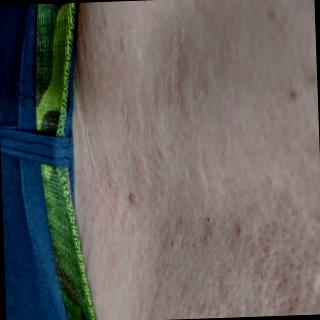urticaria: (274, 261, 302, 309), (156, 219, 188, 258), (264, 217, 300, 251), (193, 205, 216, 248), (119, 184, 144, 220), (284, 86, 312, 114), (229, 216, 250, 248), (263, 5, 282, 28)
